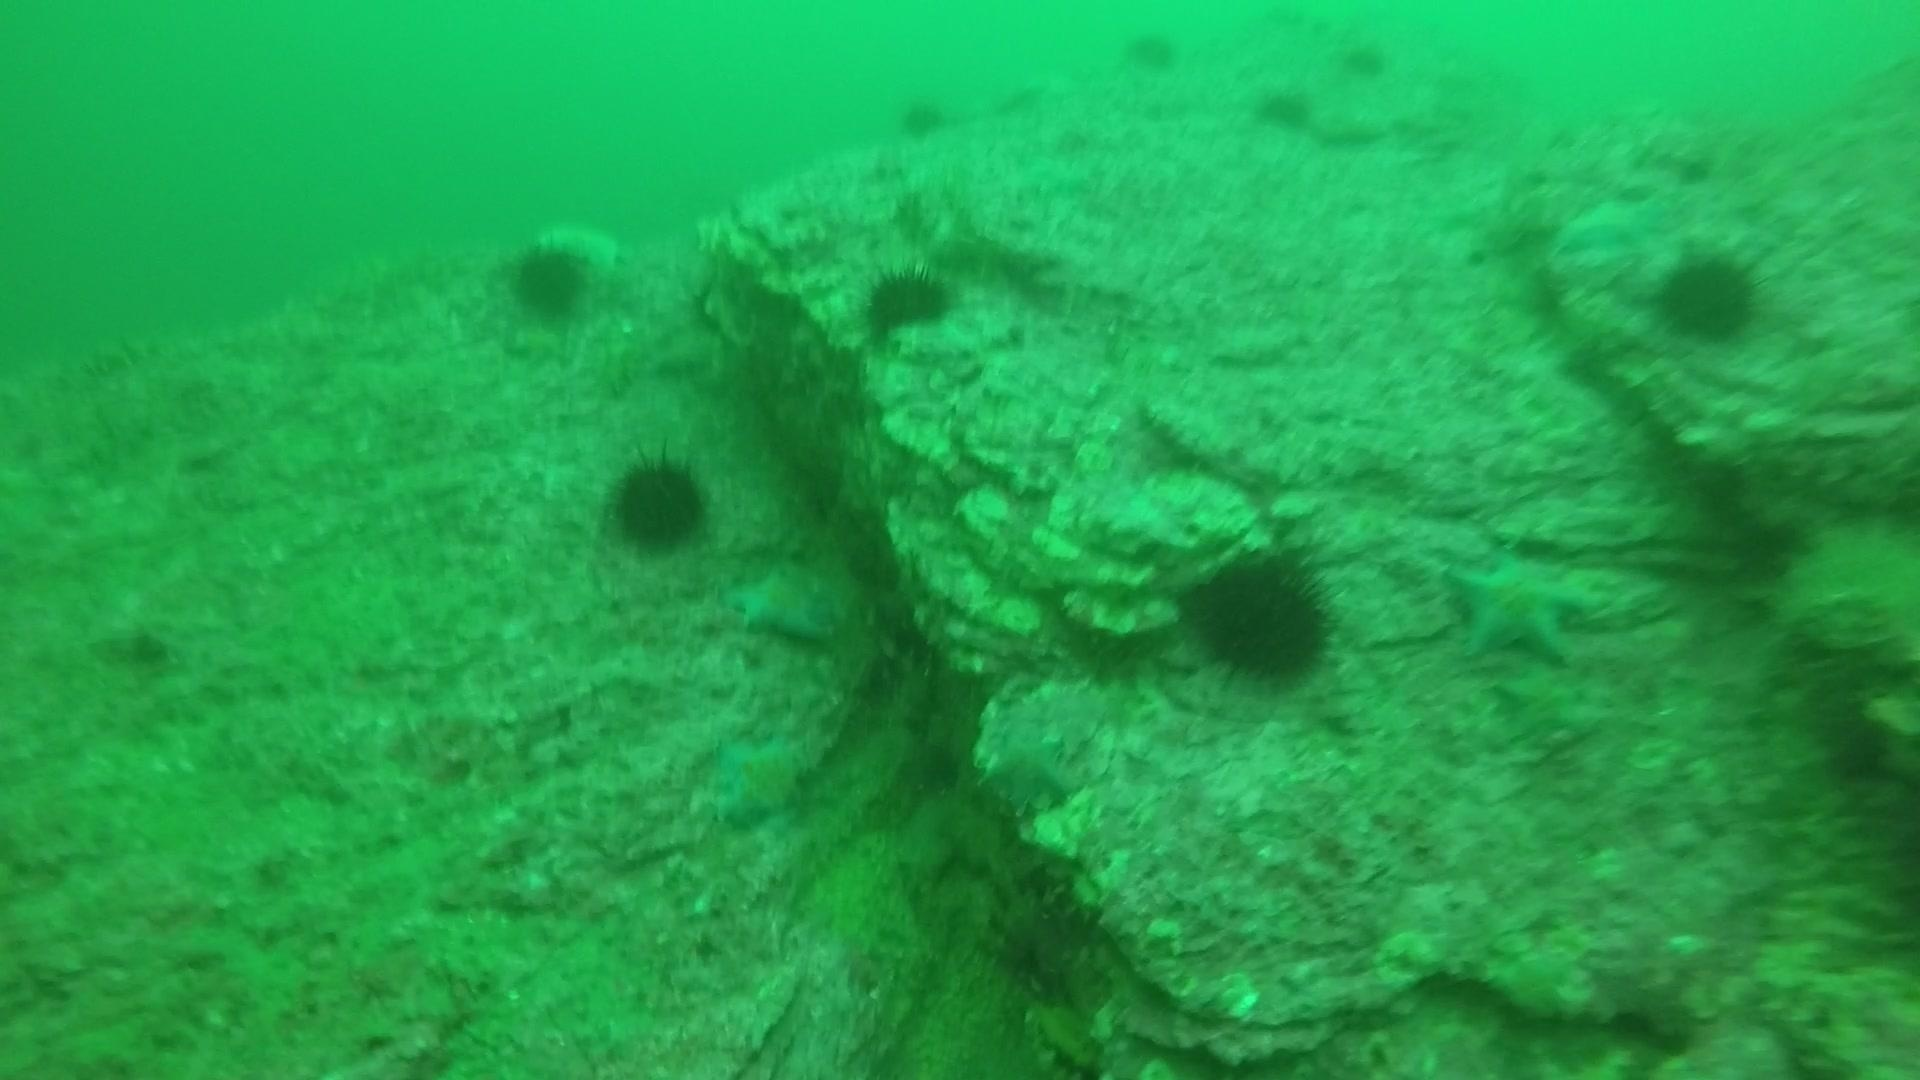echinus: (1176, 541, 1342, 691), (1648, 244, 1767, 348), (603, 447, 715, 556), (501, 235, 597, 327), (856, 258, 960, 342), (1251, 80, 1316, 136), (1341, 30, 1406, 86), (1120, 24, 1184, 78), (994, 70, 1050, 123), (894, 91, 949, 142)
starfish: (1440, 542, 1596, 669), (698, 721, 818, 833), (723, 551, 856, 649), (971, 717, 1083, 818), (1485, 667, 1610, 749), (1547, 193, 1663, 262)
